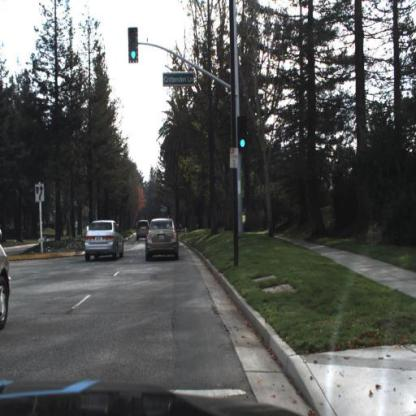car: (85, 219, 126, 262), (144, 216, 181, 263), (1, 220, 13, 334), (138, 221, 150, 242)
trafficLight: (236, 116, 248, 152), (130, 27, 139, 65)
